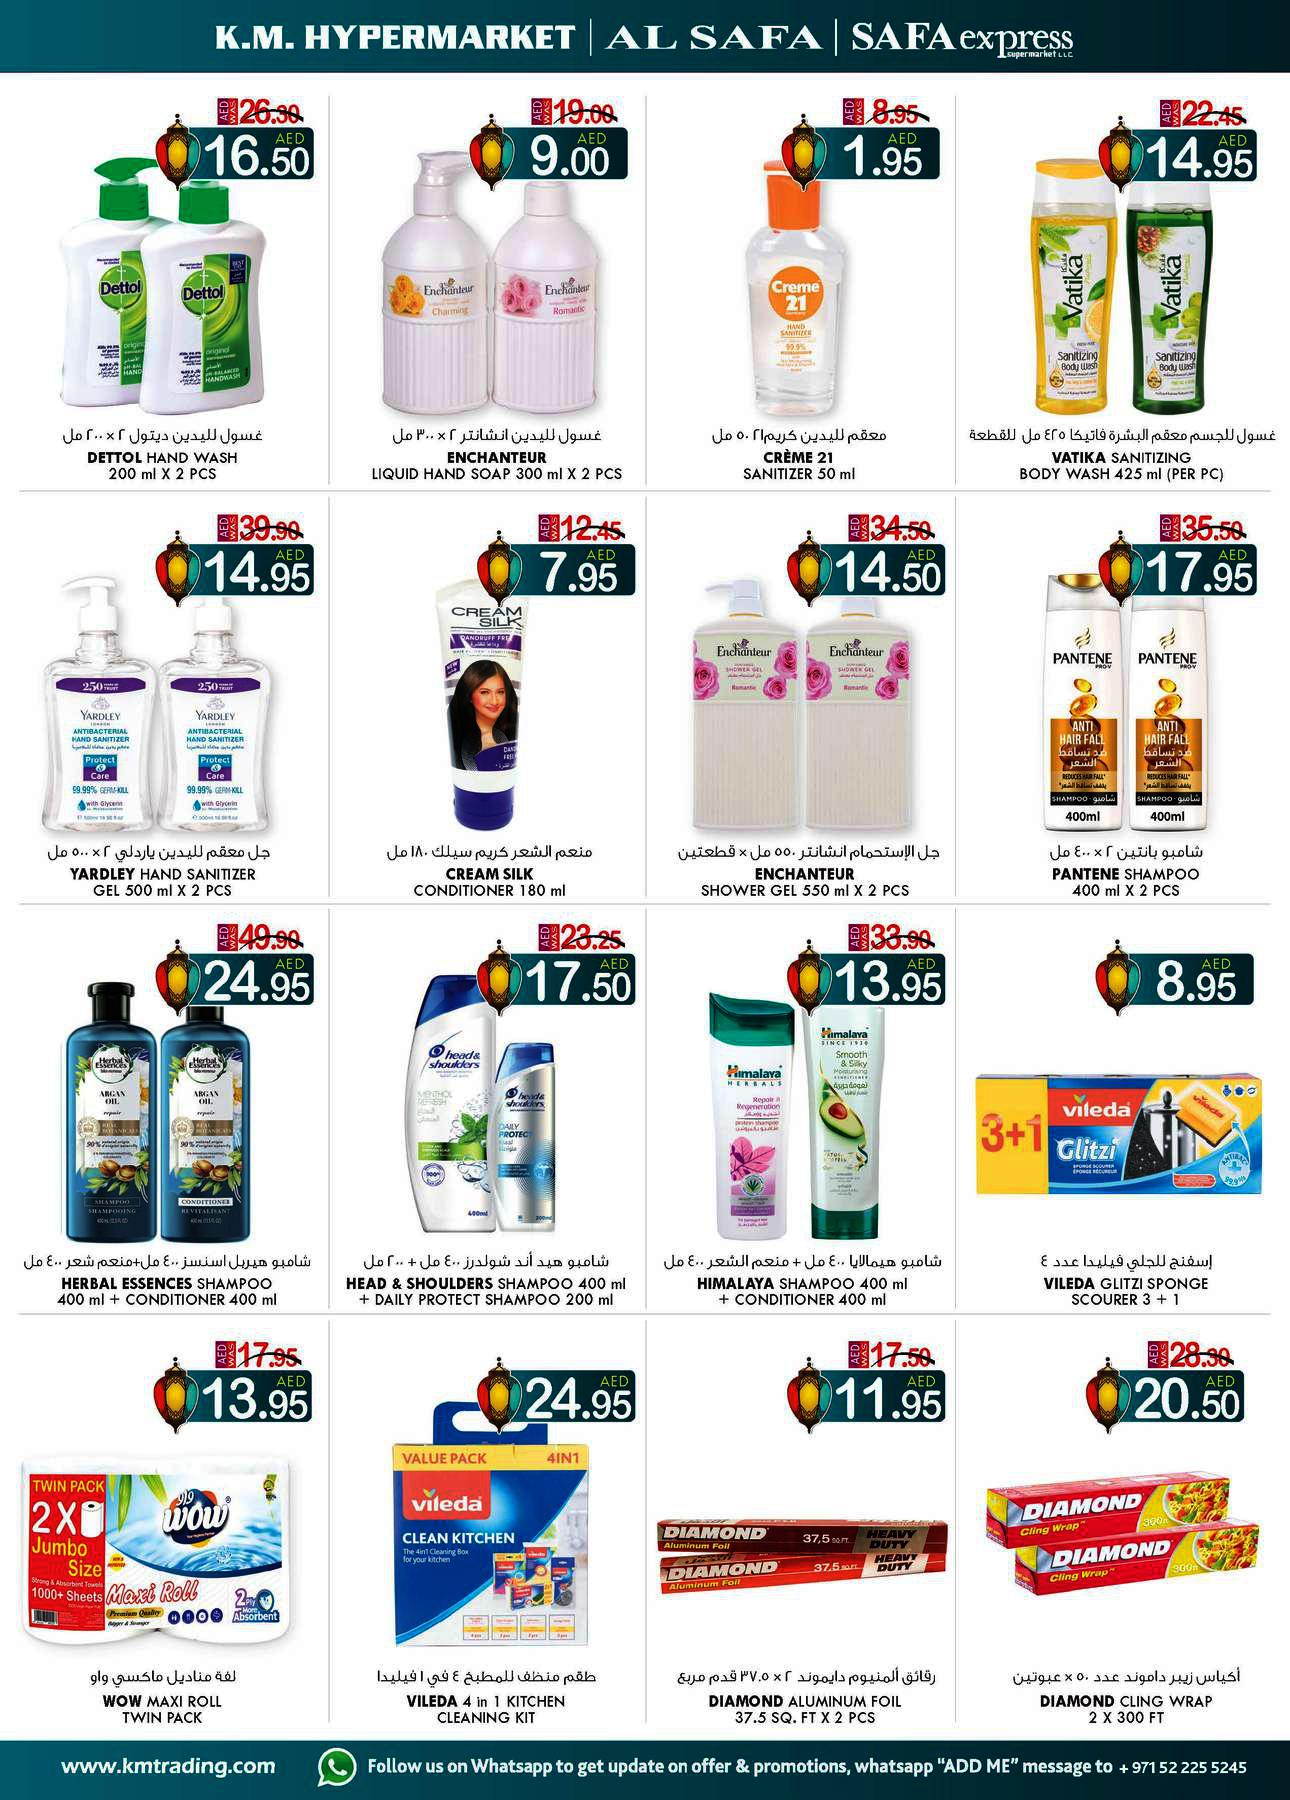text: (962, 417, 1282, 493), (15, 1246, 322, 1321), (336, 1245, 632, 1323), (659, 1245, 951, 1321), (359, 417, 638, 494), (670, 834, 948, 911), (669, 1660, 944, 1737), (1002, 1655, 1254, 1732), (42, 836, 288, 908), (369, 1658, 605, 1733), (378, 834, 605, 910), (53, 417, 269, 493), (1028, 1240, 1224, 1316), (701, 420, 896, 488), (1037, 839, 1217, 910), (75, 1662, 246, 1727)
